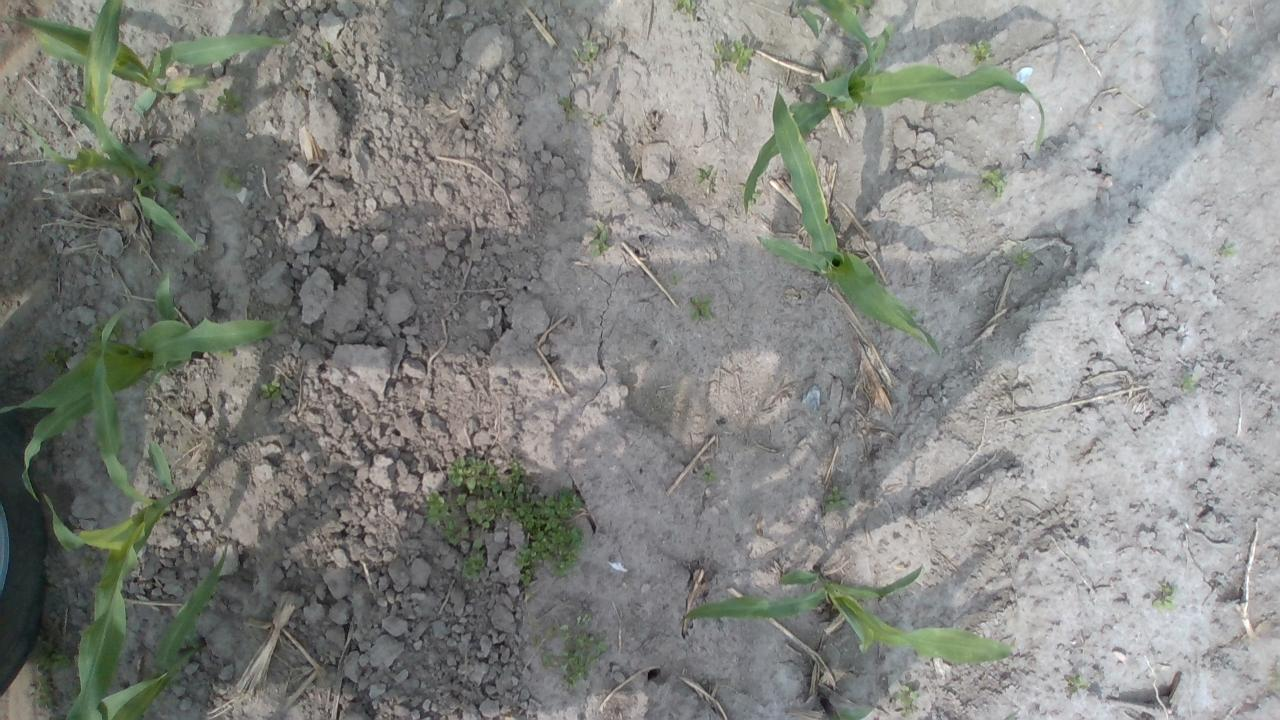Maize: (0, 265, 283, 496), (46, 307, 198, 720), (742, 23, 1046, 216), (756, 77, 944, 359), (0, 0, 201, 250), (678, 562, 1016, 666), (1, 0, 288, 115), (96, 529, 225, 720), (785, 0, 880, 70), (814, 685, 872, 720)
Weeds: (447, 454, 588, 592), (558, 624, 610, 689), (26, 654, 80, 710), (422, 488, 468, 546), (90, 313, 140, 348), (710, 38, 755, 74), (36, 339, 72, 380), (206, 84, 244, 116), (980, 166, 1008, 200), (586, 219, 610, 256), (894, 681, 918, 718), (688, 296, 716, 324), (966, 38, 993, 67), (571, 38, 600, 64), (822, 485, 849, 512), (1151, 581, 1176, 610), (220, 166, 247, 192), (695, 166, 716, 194), (259, 380, 284, 402), (1065, 672, 1087, 696), (556, 96, 579, 118), (1010, 245, 1032, 268), (672, 0, 695, 21), (738, 183, 758, 206), (540, 649, 558, 670), (582, 111, 608, 125), (80, 551, 98, 571), (318, 38, 332, 63), (825, 63, 848, 78), (1179, 371, 1196, 391), (163, 194, 180, 213), (702, 464, 718, 484), (1219, 241, 1236, 256), (862, 0, 875, 18), (574, 612, 592, 624), (906, 306, 920, 320), (668, 270, 680, 286), (217, 350, 234, 360), (544, 626, 556, 640)
